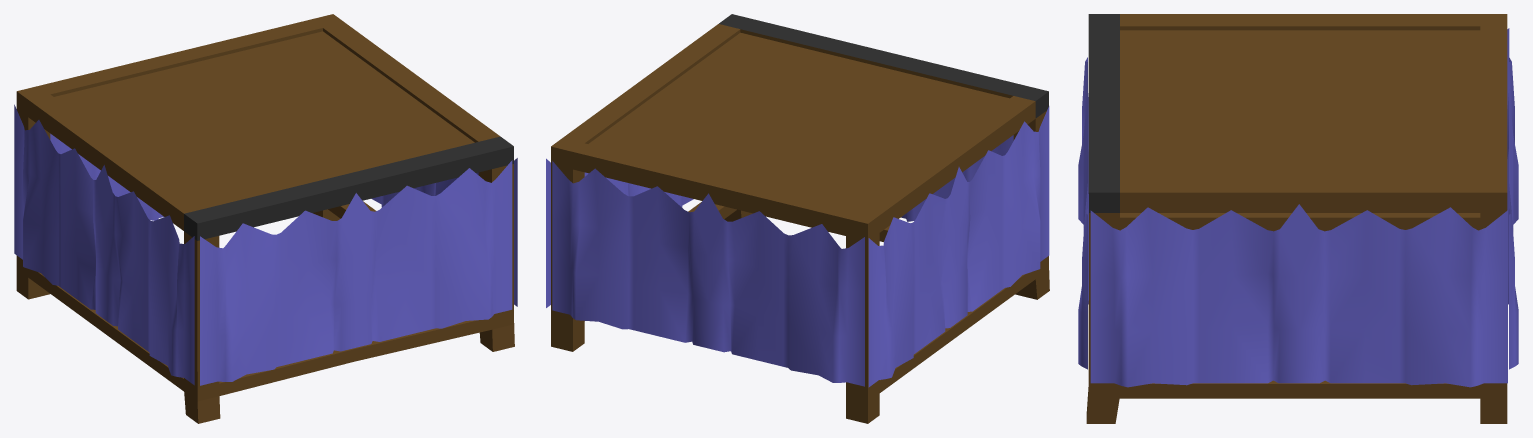
Rendered from taula_quadrada.fbx.
The picture shows the model from 3 angles, left to right: view 1: azimuth 30°, elevation 25°; view 2: azimuth 150°, elevation 25°; view 3: azimuth 270°, elevation 25°; orthographic projection. The views are drawn at different scales.
Parts seen in each view (by area): view 1: mesa1.002; view 2: mesa1.002; view 3: mesa1.002.
Part boxes in pixels (x1,y1,x2,y2): mesa1.002: (14, 14, 517, 423); mesa1.002: (546, 14, 1049, 423); mesa1.002: (1078, 14, 1518, 423).
Size of the model in its own units: 245 by 139 by 240.
